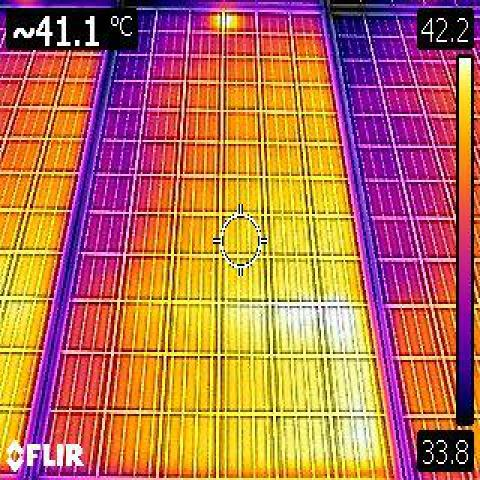fault: (269, 301, 379, 469), (214, 12, 237, 31)
